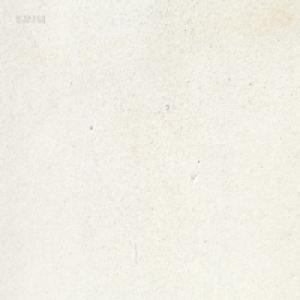Washer: (165, 102, 169, 110)
